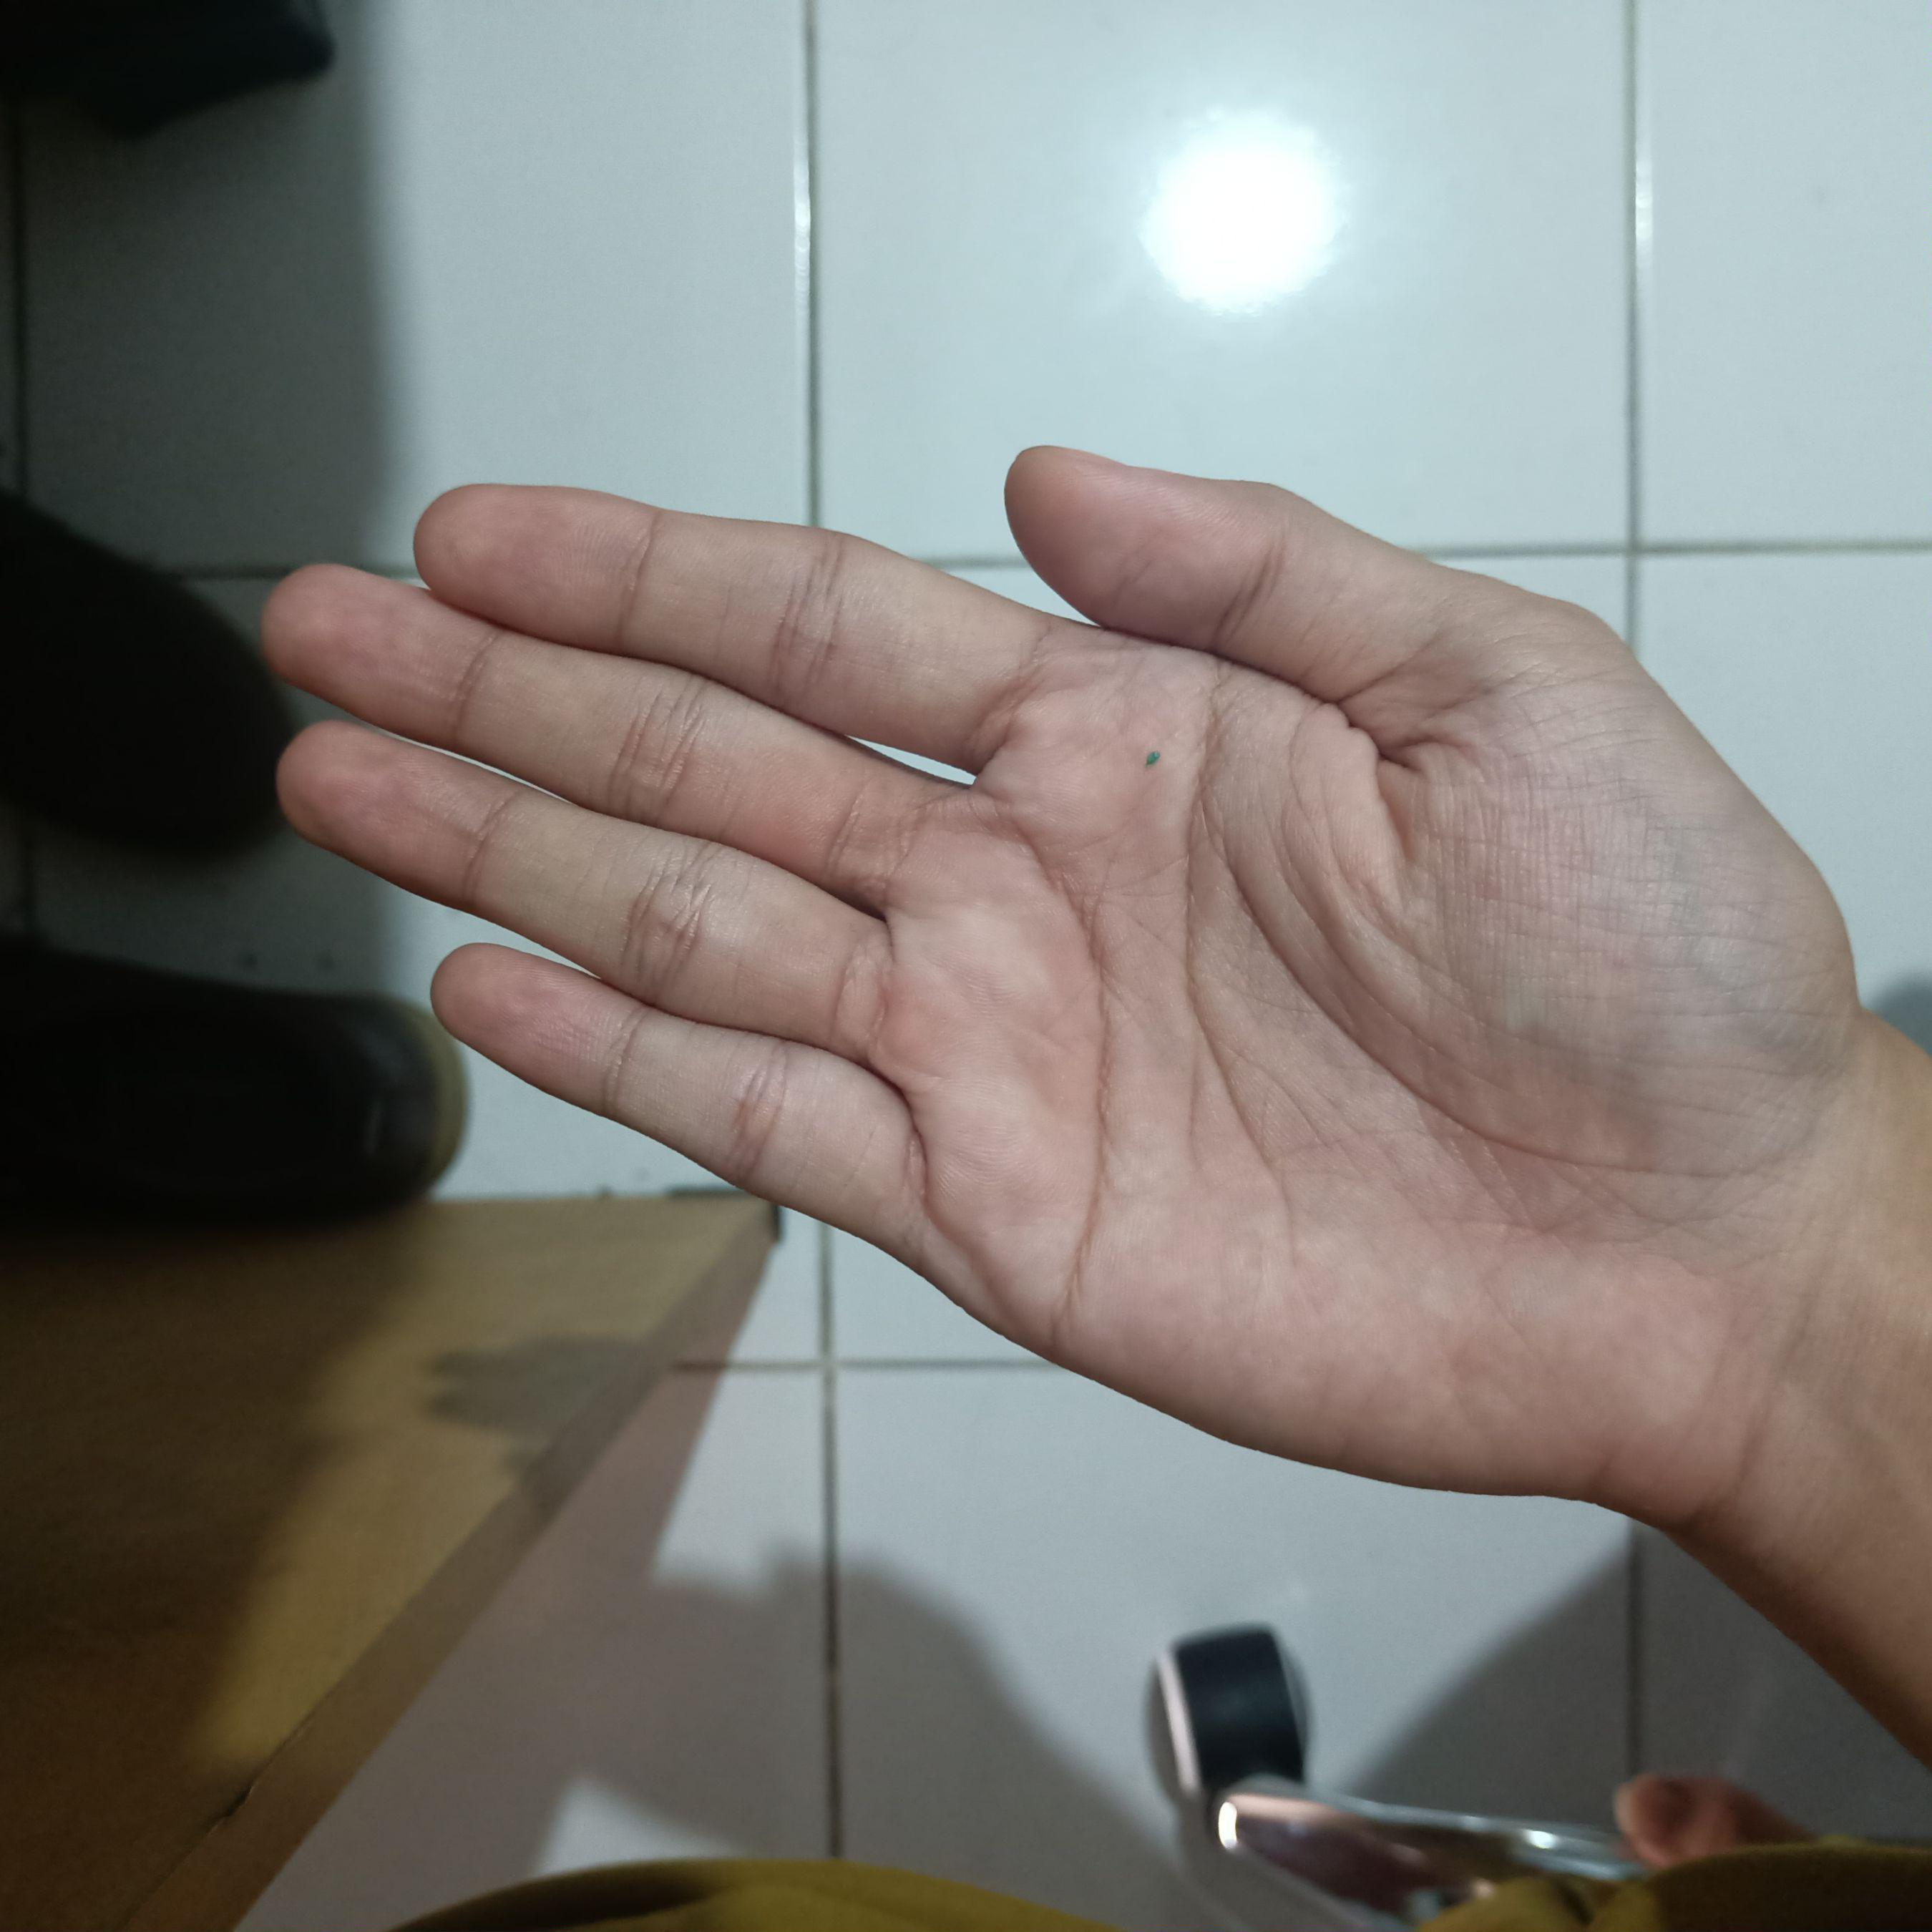paper: (253, 409, 1882, 1541)
